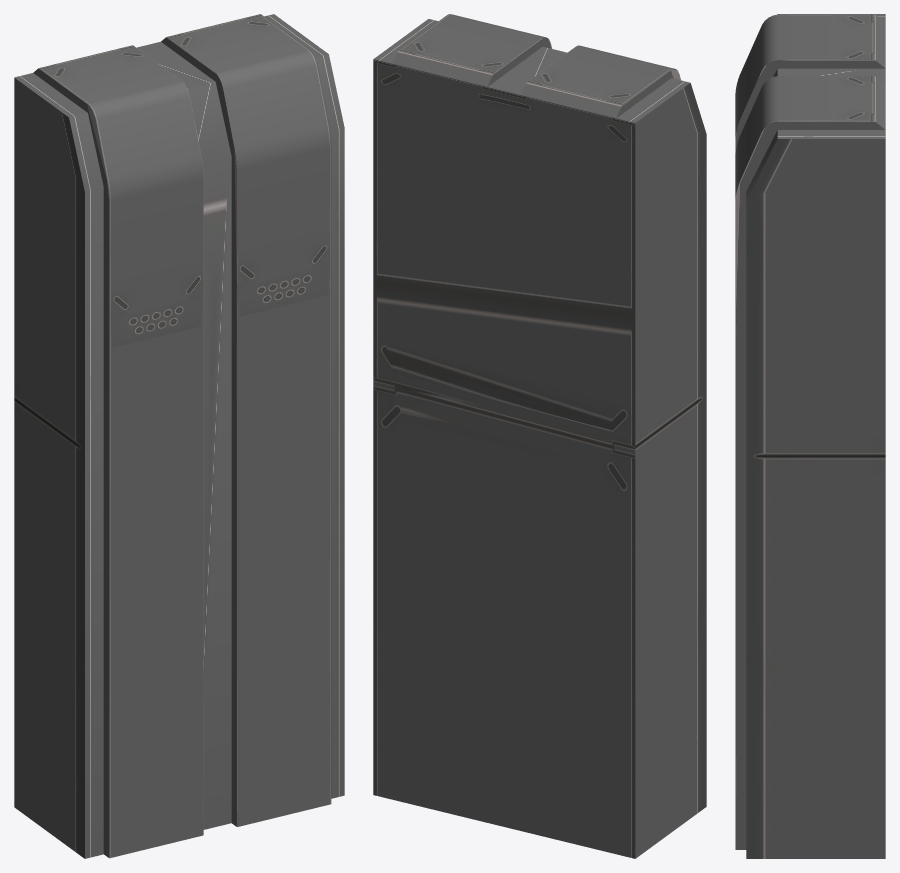
The model's file is scifi-locker.glb.
The picture shows the model from 3 angles, left to right: view 1: azimuth 30°, elevation 25°; view 2: azimuth 150°, elevation 25°; view 3: azimuth 270°, elevation 25°; orthographic projection. The views are drawn at different scales.
Visible parts, largest first — view 1: Prop_Locker; view 2: Prop_Locker; view 3: Prop_Locker.
Boxes of the visible parts, x1,y1,x2,y2 form: Prop_Locker: [14, 14, 344, 858]; Prop_Locker: [373, 14, 706, 858]; Prop_Locker: [735, 14, 885, 858].
Size of the model in its own units: 0.9829 by 2.67 by 0.4994.
1 material, 1 textured.
